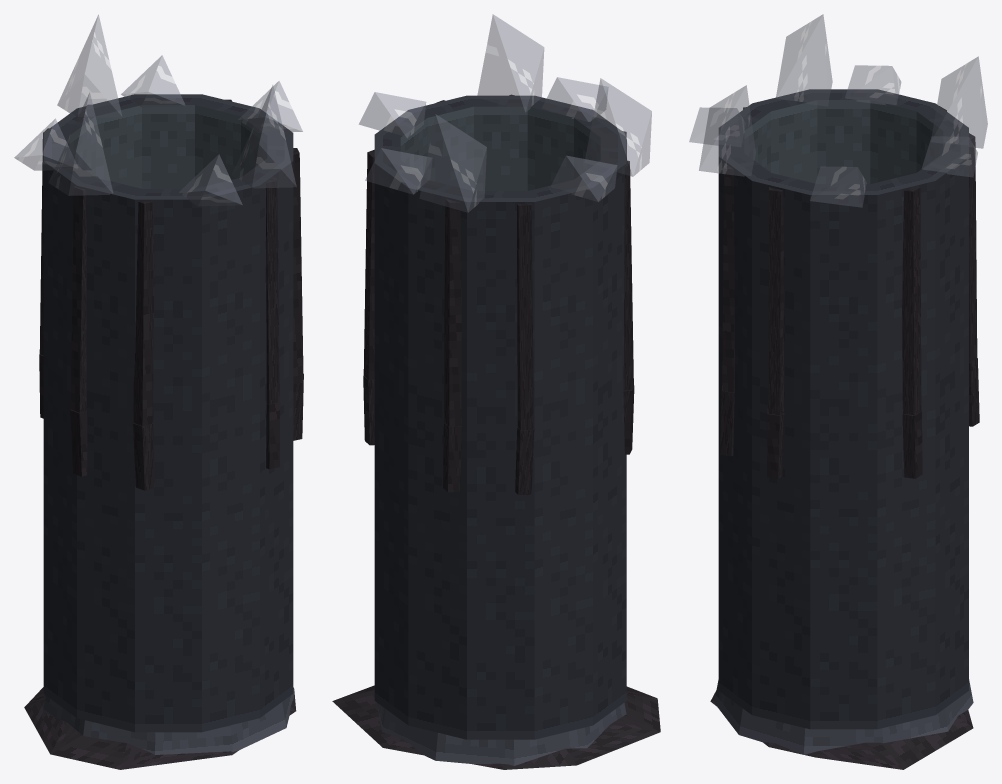
The model's file is f_vitrified_water_heater.glb.
The picture shows the model from 3 angles, left to right: view 1: azimuth 30°, elevation 25°; view 2: azimuth 150°, elevation 25°; view 3: azimuth 270°, elevation 25°; orthographic projection.
Visible parts, largest first — view 1: block_hollow-burst-heater-cylinder-outer-2, block_hollow-burst-heater-cylinder-outer-3, block_hollow-burst-heater-cylinder-outer-4, block_shattered-heater-top-rim (×7), block_hollow-burst-heater-cylinder-outer-5, block_hollow-burst-heater-cylinder-outer-1, block_black-sand-rivulet-1 (×5), block_black-glass-heater-base, block_hollow-burst-heater-cylinder-inner-9, block_spilled-black-sand, block_black-sand-rivulet-2 (×4), block_hollow-burst-heater-cylinder-inner-8 (+15 smaller); view 2: block_hollow-burst-heater-cylinder-outer-7, block_hollow-burst-heater-cylinder-outer-6, block_hollow-burst-heater-cylinder-outer-8, block_shattered-heater-top-rim (×7), block_hollow-burst-heater-cylinder-outer-9, block_hollow-burst-heater-cylinder-outer-5, block_black-sand-rivulet-1 (×4), block_spilled-black-sand, block_black-glass-heater-base, block_hollow-burst-heater-cylinder-inner-1, block_black-sand-rivulet-2 (×4), block_hollow-burst-heater-cylinder-inner-2 (+15 smaller); view 3: block_hollow-burst-heater-cylinder-outer-11, block_hollow-burst-heater-cylinder-outer-0, block_hollow-burst-heater-cylinder-outer-10, block_shattered-heater-top-rim (×7), block_hollow-burst-heater-cylinder-outer-9, block_hollow-burst-heater-cylinder-outer-1, block_black-sand-rivulet-1 (×4), block_black-glass-heater-base, block_hollow-burst-heater-cylinder-inner-5, block_black-sand-rivulet-2 (×4), block_hollow-burst-heater-cylinder-inner-4, block_hollow-burst-heater-cylinder-inner-6 (+15 smaller).
Boxes of the visible parts, bbox=[...] form: block_hollow-burst-heater-cylinder-outer-2: bbox=[202, 185, 259, 732]; block_hollow-burst-heater-cylinder-outer-3: bbox=[135, 199, 201, 732]; block_hollow-burst-heater-cylinder-outer-4: bbox=[77, 186, 134, 732]; block_shattered-heater-top-rim (×7): bbox=[14, 14, 302, 206]; block_hollow-burst-heater-cylinder-outer-5: bbox=[43, 162, 76, 717]; block_hollow-burst-heater-cylinder-outer-1: bbox=[260, 161, 293, 717]; block_black-sand-rivulet-1 (×5): bbox=[39, 128, 303, 426]; block_black-glass-heater-base: bbox=[43, 687, 294, 754]; block_hollow-burst-heater-cylinder-inner-9: bbox=[142, 105, 194, 188]; block_spilled-black-sand: bbox=[24, 687, 296, 769]; block_black-sand-rivulet-2 (×4): bbox=[70, 373, 303, 490]; block_hollow-burst-heater-cylinder-inner-8: bbox=[96, 105, 141, 188]; block_hollow-burst-heater-cylinder-outer-7: bbox=[467, 202, 534, 739]; block_hollow-burst-heater-cylinder-outer-6: bbox=[534, 188, 592, 739]; block_hollow-burst-heater-cylinder-outer-8: bbox=[408, 188, 466, 739]; block_shattered-heater-top-rim (×7): bbox=[359, 14, 651, 212]; block_hollow-burst-heater-cylinder-outer-9: bbox=[374, 164, 408, 724]; block_hollow-burst-heater-cylinder-outer-5: bbox=[593, 163, 626, 725]; block_black-sand-rivulet-1 (×4): bbox=[363, 149, 633, 430]; block_spilled-black-sand: bbox=[332, 685, 660, 769]; block_black-glass-heater-base: bbox=[377, 703, 626, 765]; block_hollow-burst-heater-cylinder-inner-1: bbox=[474, 106, 527, 190]; block_black-sand-rivulet-2 (×4): bbox=[363, 375, 634, 494]; block_hollow-burst-heater-cylinder-inner-2: bbox=[527, 107, 573, 190]; block_hollow-burst-heater-cylinder-outer-11: bbox=[810, 195, 877, 729]; block_hollow-burst-heater-cylinder-outer-0: bbox=[752, 181, 810, 729]; block_hollow-burst-heater-cylinder-outer-10: bbox=[877, 181, 935, 729]; block_shattered-heater-top-rim (×7): bbox=[689, 14, 987, 207]; block_hollow-burst-heater-cylinder-outer-9: bbox=[935, 157, 968, 714]; block_hollow-burst-heater-cylinder-outer-1: bbox=[718, 157, 751, 714]; block_black-sand-rivulet-1 (×4): bbox=[722, 133, 977, 415]; block_black-glass-heater-base: bbox=[714, 679, 973, 754]; block_hollow-burst-heater-cylinder-inner-5: bbox=[817, 100, 870, 183]; block_black-sand-rivulet-2 (×4): bbox=[720, 358, 979, 478]; block_hollow-burst-heater-cylinder-inner-4: bbox=[771, 100, 817, 183]; block_hollow-burst-heater-cylinder-inner-6: bbox=[870, 100, 916, 183].
Size of the model in its own units: 0.7137 by 1.59 by 0.6684.
2 materials, 2 textured.
